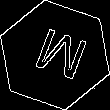M_S: (23, 23, 87, 87)
